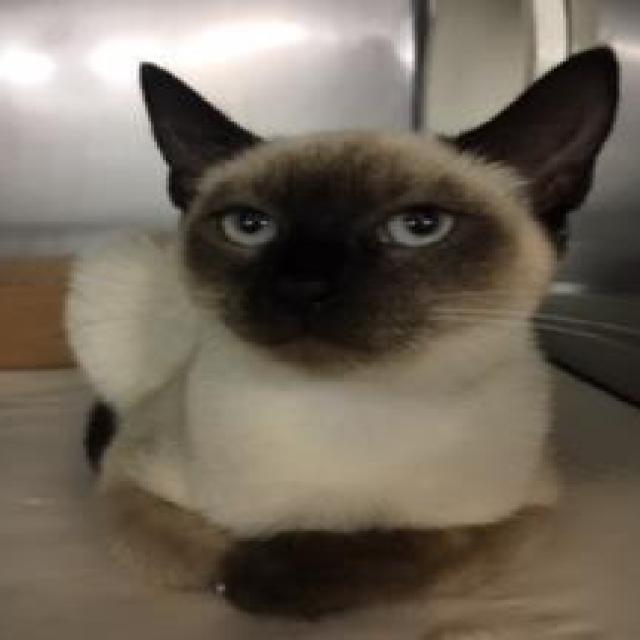Siamese: (58, 41, 630, 625)
